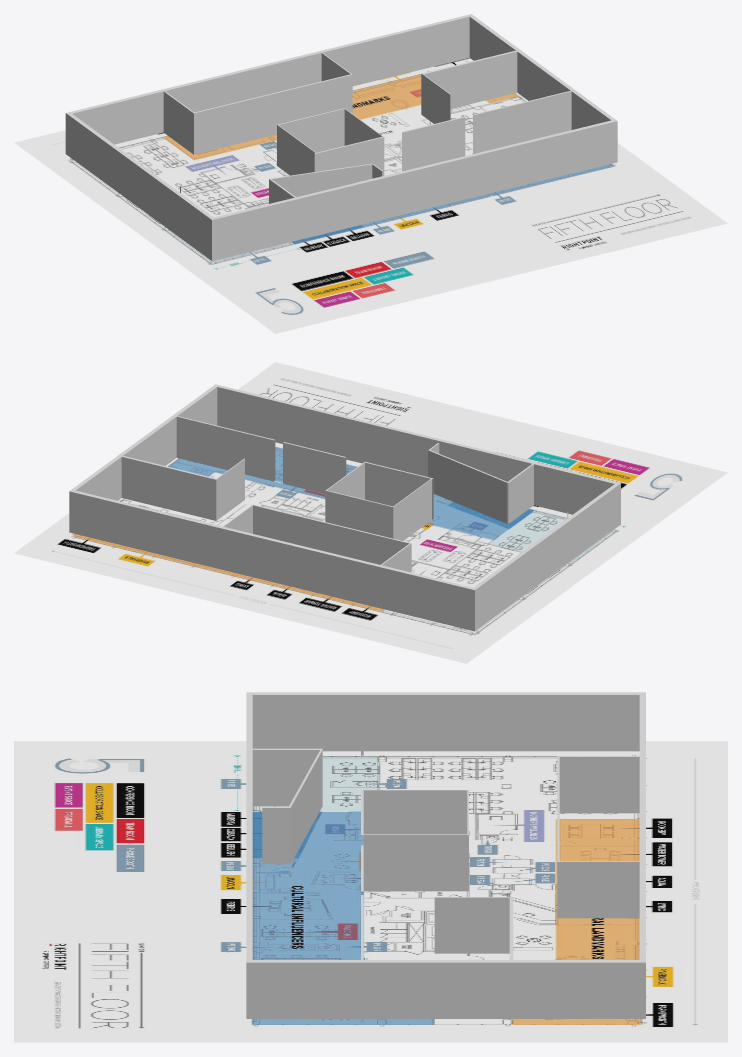
File: TheFifth_v7.glb
3 views of the same model, one above another, from view 1: azimuth 30°, elevation 25°; view 2: azimuth 150°, elevation 25°; view 3: azimuth 270°, elevation 25° (orthographic). The views are drawn at different scales.
Parts seen in each view (by area): view 1: WestWall, Plane; view 2: WestWall, Plane; view 3: Plane, WestWall.
Part boxes in pixels (<box>): WestWall: <box>65,14,617,261</box>; Plane: <box>14,58,727,333</box>; WestWall: <box>69,384,620,631</box>; Plane: <box>14,362,727,663</box>; Plane: <box>14,741,727,1042</box>; WestWall: <box>246,692,645,1018</box>.
Size of the model in its own units: 39.53 by 3.99 by 39.53.
2 materials, 1 textured.
